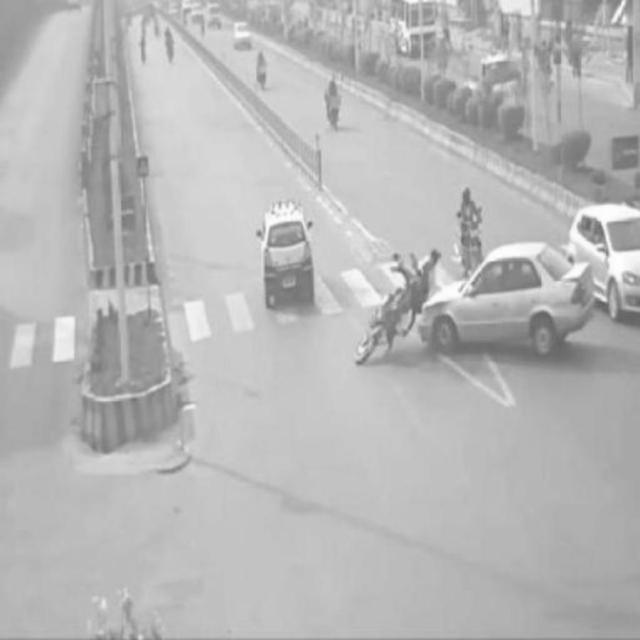accident: (360, 241, 593, 375)
vehicle: (581, 199, 640, 316), (260, 201, 318, 309), (454, 179, 486, 263), (321, 71, 347, 131), (250, 43, 274, 91)
